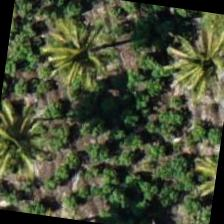Kelapa_Sawit: (33, 0, 136, 96), (145, 23, 223, 125), (0, 101, 60, 199)
